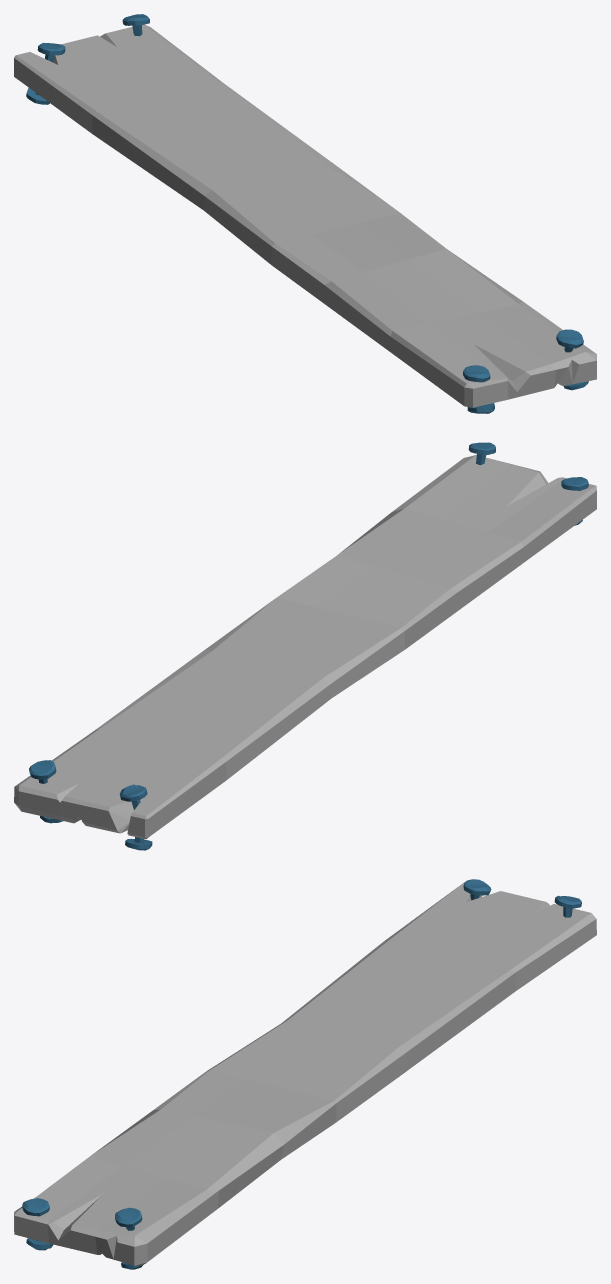
Rendered from PlankA_SM.fbx.
The picture shows the model from 3 angles, top to bottom: view 1: azimuth 30°, elevation 25°; view 2: azimuth 150°, elevation 25°; view 3: azimuth 330°, elevation 25°; orthographic projection.
Visible parts, largest first — view 1: PlankA_SM; view 2: PlankA_SM; view 3: PlankA_SM.
Part boxes in pixels (bbox=[...]): PlankA_SM: bbox=[14, 14, 596, 413]; PlankA_SM: bbox=[14, 442, 596, 850]; PlankA_SM: bbox=[14, 879, 596, 1269].
Size of the model in its own units: 0.1931 by 0.0883 by 1.13.
